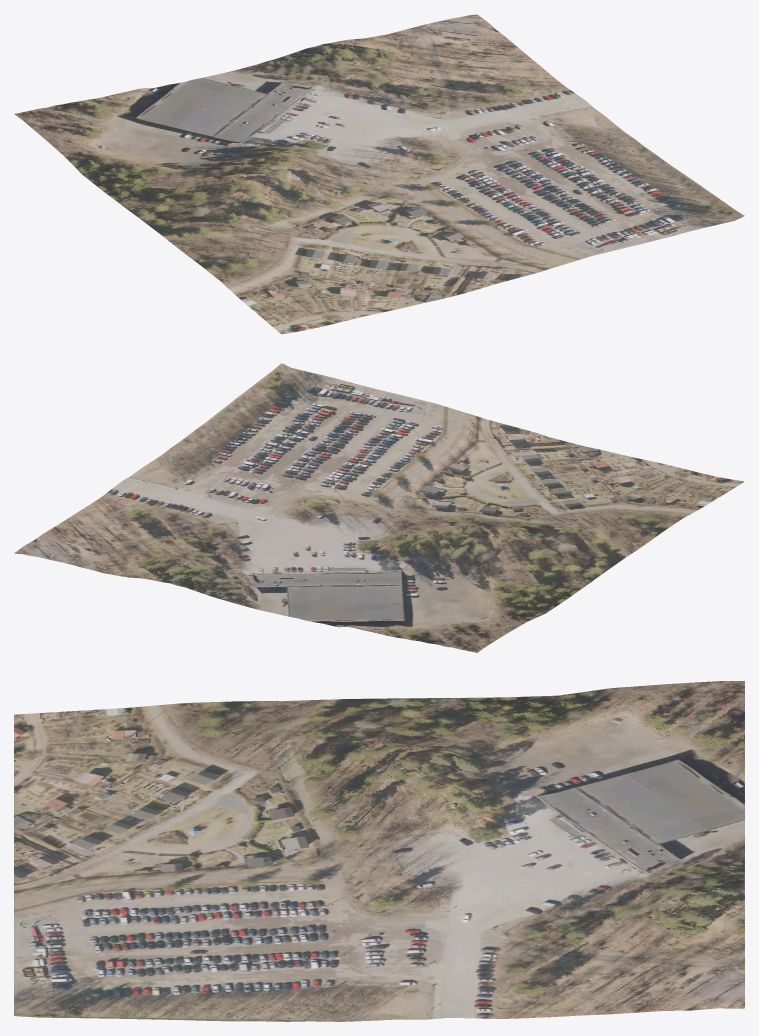
File: CM_Terrain_24489639_6821841.fbx
3 renders of one model, top to bottom at view 1: azimuth 30°, elevation 25°; view 2: azimuth 150°, elevation 25°; view 3: azimuth 270°, elevation 25°, orthographic. The views are drawn at different scales.
Parts seen in each view (by area): view 1: CM_Terrain_24489639_6821841_LOD0; view 2: CM_Terrain_24489639_6821841_LOD0; view 3: CM_Terrain_24489639_6821841_LOD0.
Part boxes in pixels (left/top/right/bottom): CM_Terrain_24489639_6821841_LOD0: left=14, top=14, right=744, bottom=334; CM_Terrain_24489639_6821841_LOD0: left=14, top=363, right=744, bottom=652; CM_Terrain_24489639_6821841_LOD0: left=14, top=681, right=744, bottom=1021.
Size of what is drawn, in the model's own units: 205 by 13.22 by 205.
